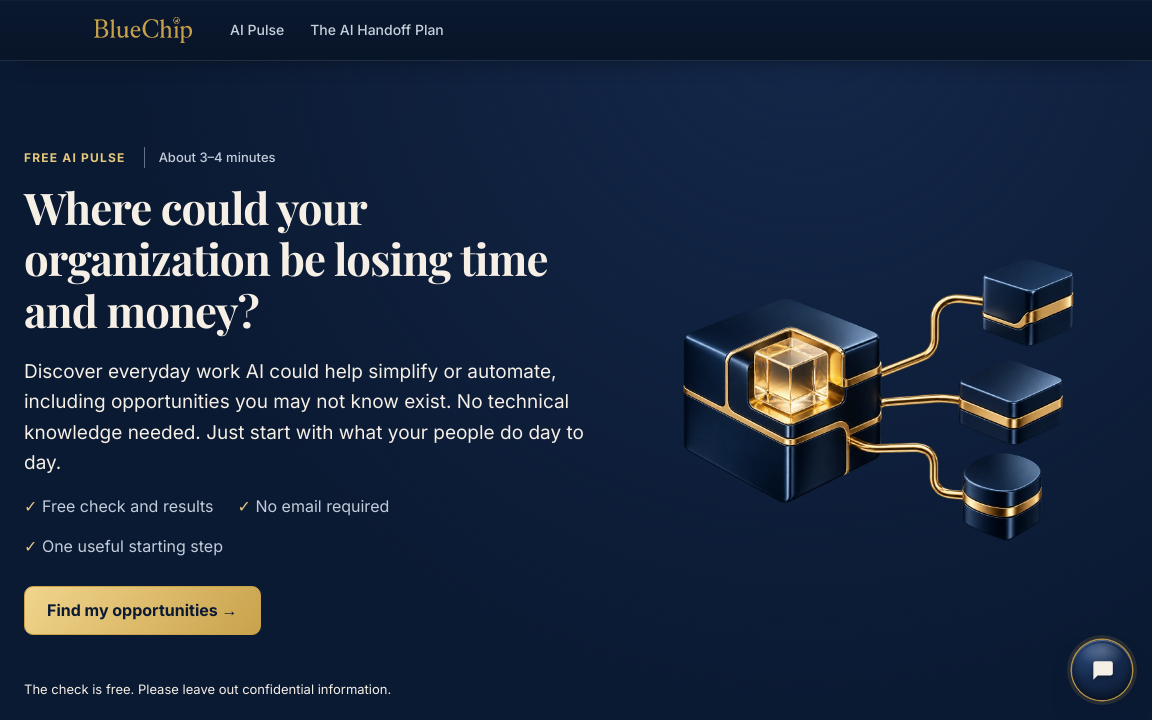
Test: asks about current work and teaches an idea after an unsure answer
Click the button "Find my opportunities →" at x=142, y=610, box [24,586,260,635]
(page scrolled)
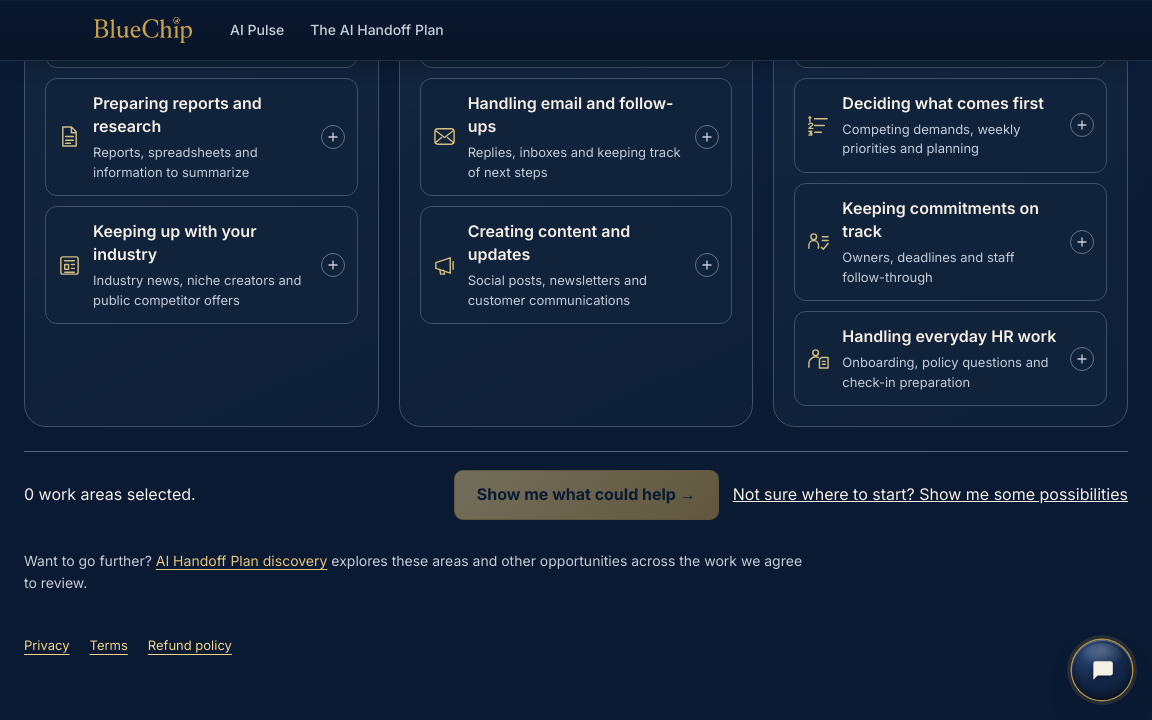
Click the button "Not sure where to start? Show me some possibilities" at x=930, y=495, box [733,472,1128,518]
(page scrolled)
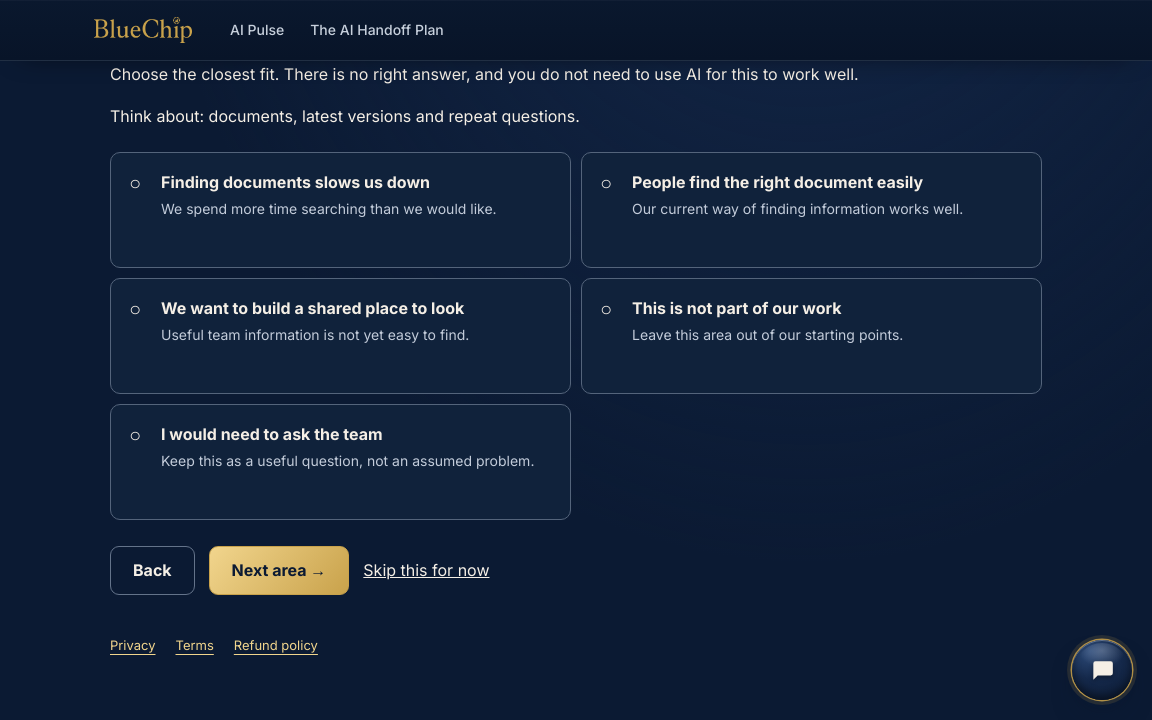
Click the button "I would need to ask the team" at x=340, y=462, box [110,404,571,520]
(page scrolled)
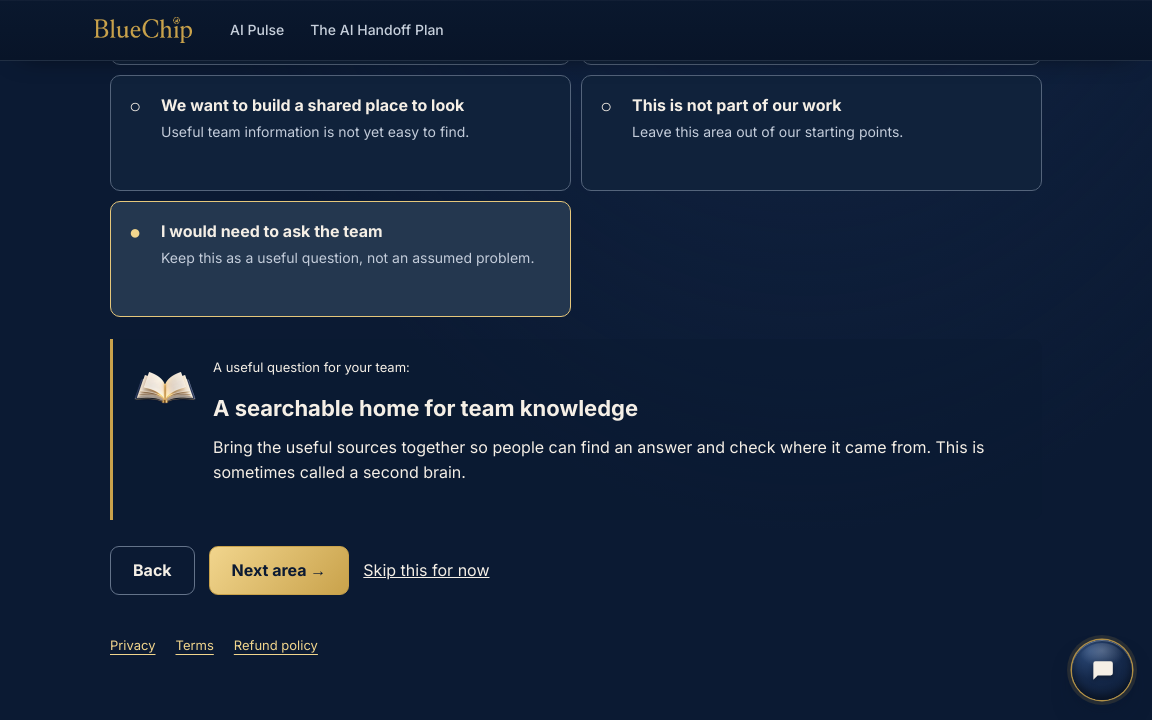
Now the message shows "A searchable home for team knowledge", box [213,395,638,421]
